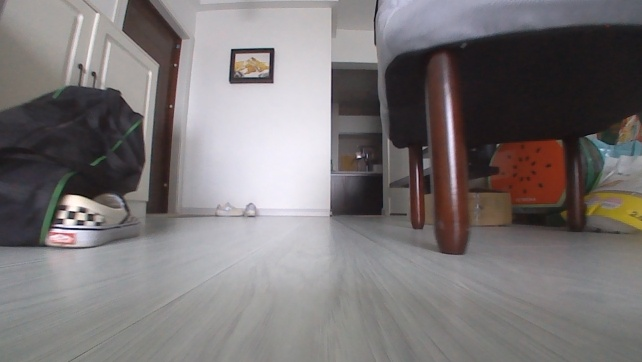cupboard: (330, 169, 382, 216)
shoe: (42, 187, 143, 251), (213, 200, 244, 218)
